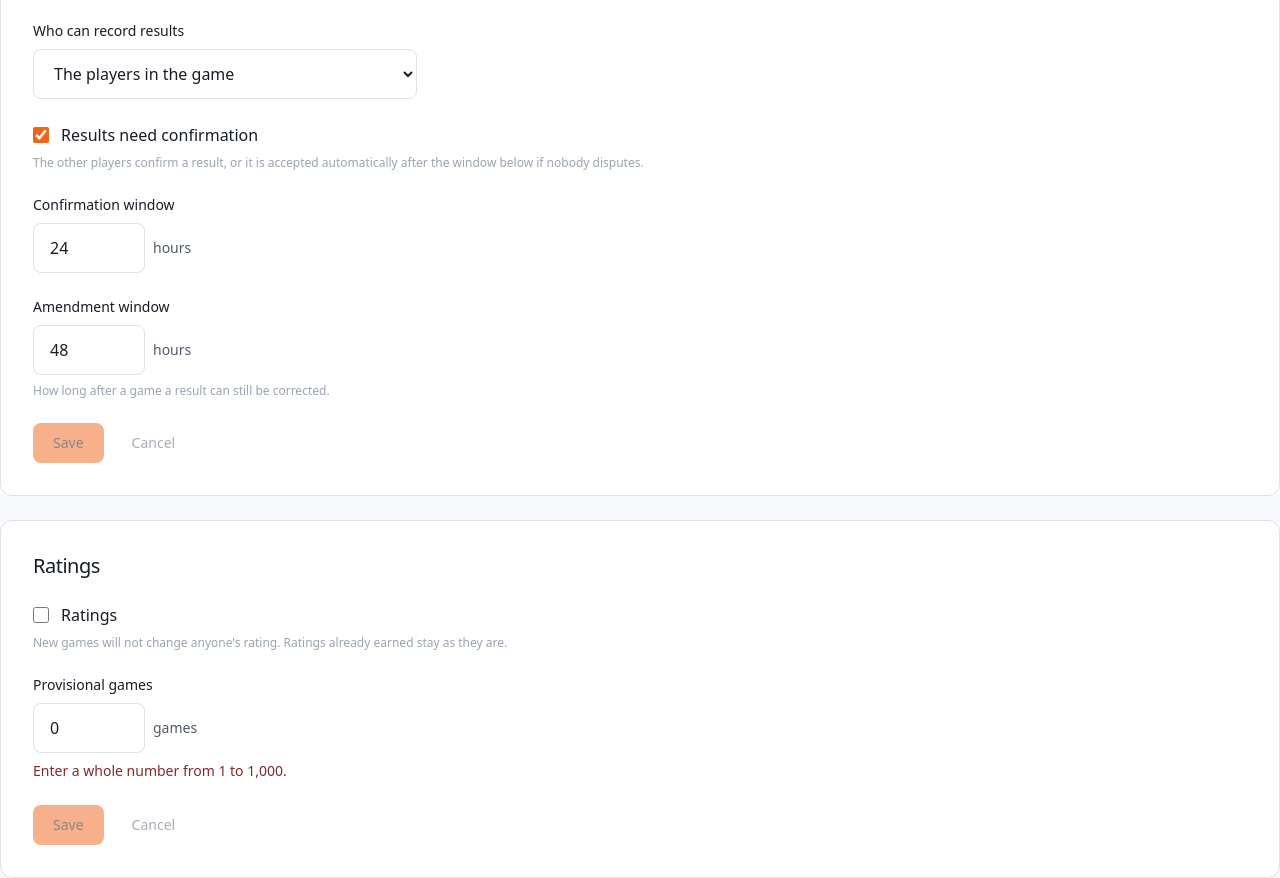
Test case: a stored fault being repaired › clears the message on a valid replacement but keeps the control until the save lands
The image size is (1280, 878).
(page scrolled)
Expected: the element that starts with "Ratings" shows "Enter a whole number from 1 to 1,000.", [33,761,287,780]
Replace the text in the field with id "setting-provisionalGames" with "10". click: (89, 728)
box: [33,703,145,753]
(page scrolled)
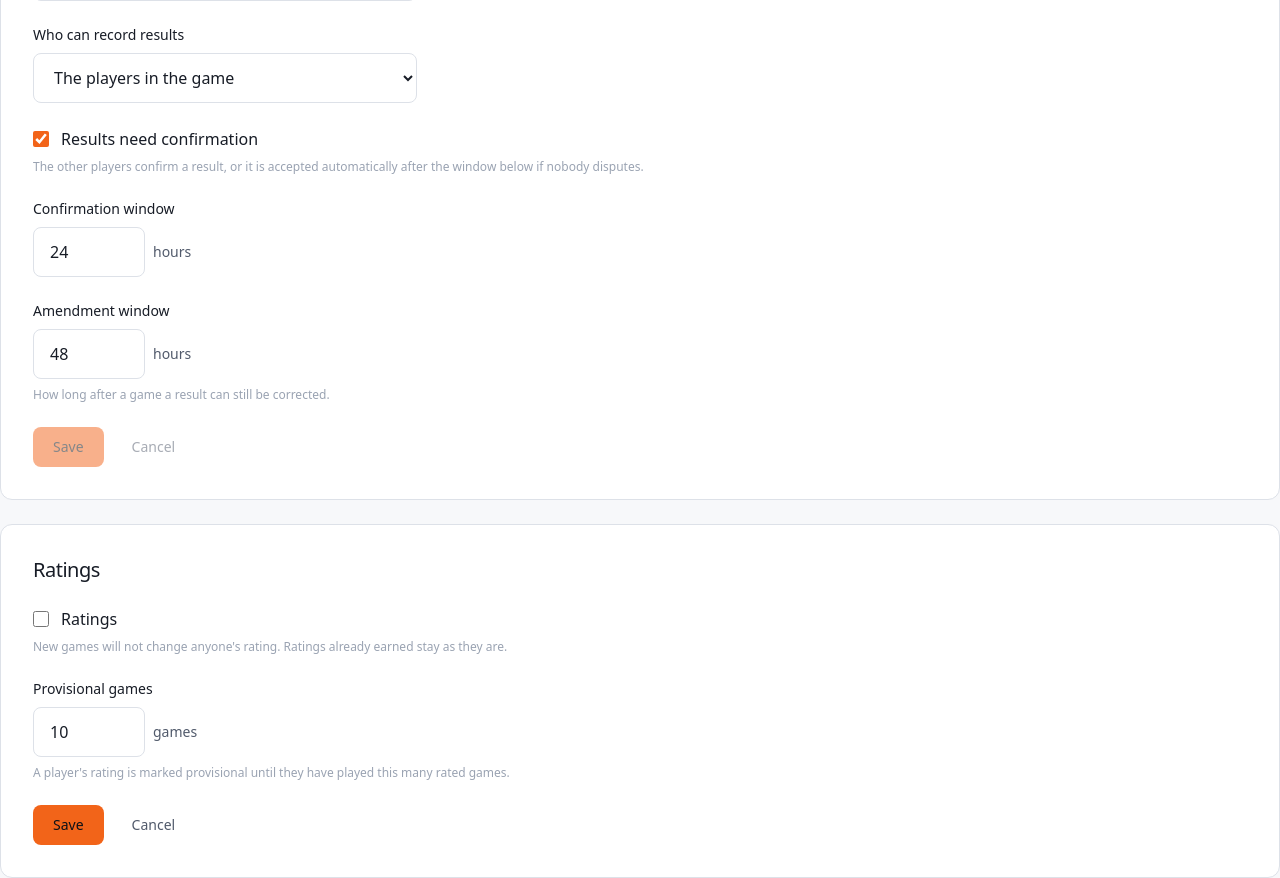
Now the text "Enter a whole number from 1 to 1,000." is gone
